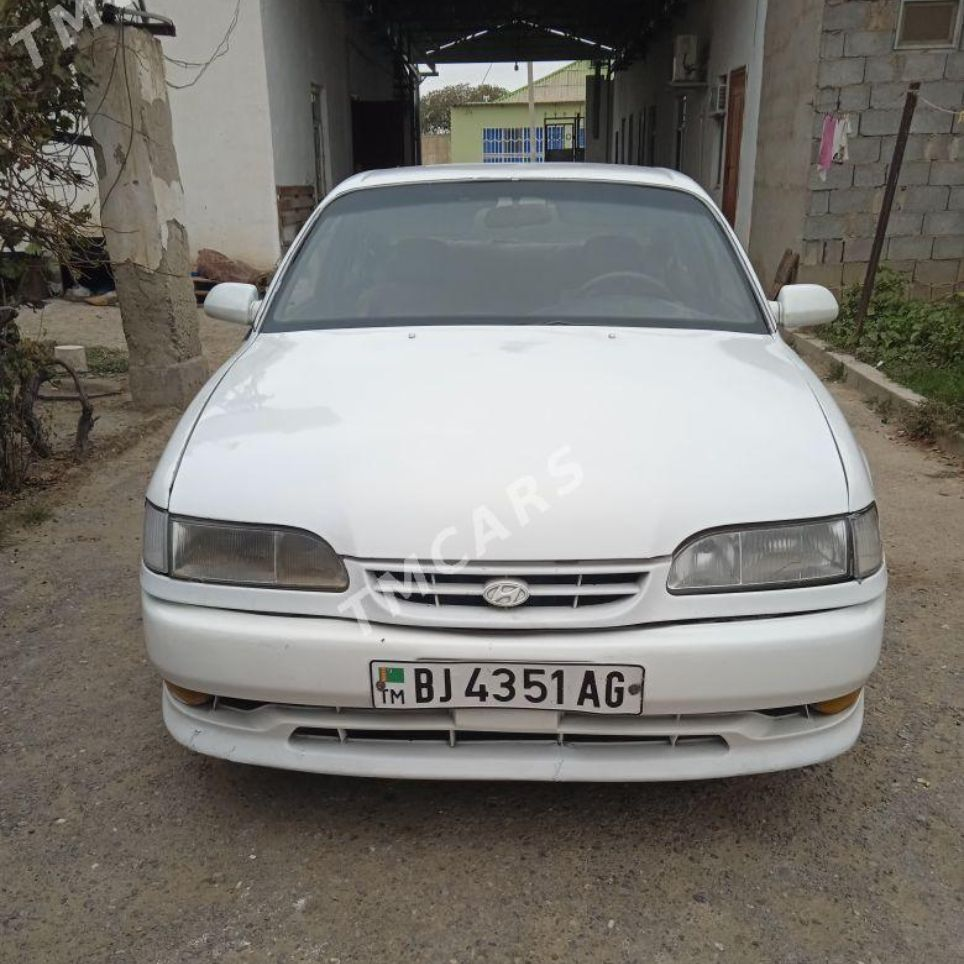license plate: (369, 662, 643, 716)
truck: (152, 165, 884, 784)
